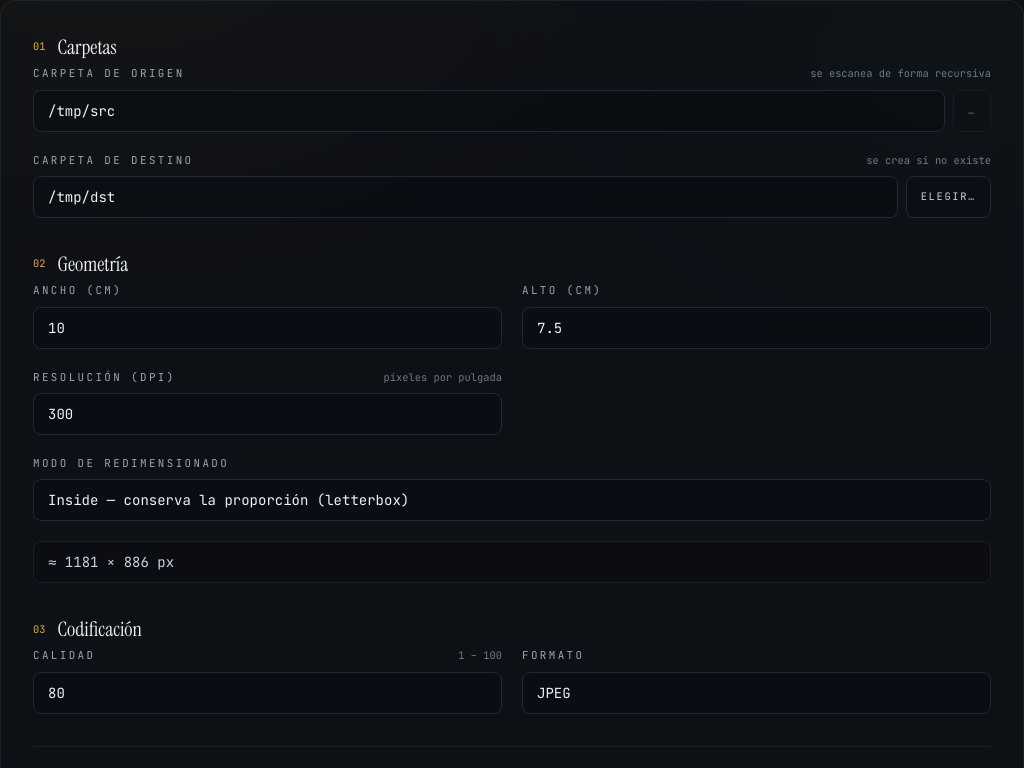
Scenario: ConfigForm › shows a pending state on the picking field and keeps the inputs editable
The width and height of the screenshot is (1024, 768).
Expected: the button named "elegir ruta de origen" is disabled, [953,90,991,132]
Expected: the button named "elegir ruta de origen" reads "…", [953,90,991,132]
In the field labelled "Carpeta de origen": point(489, 111) [33,90,945,132], type "/typed"
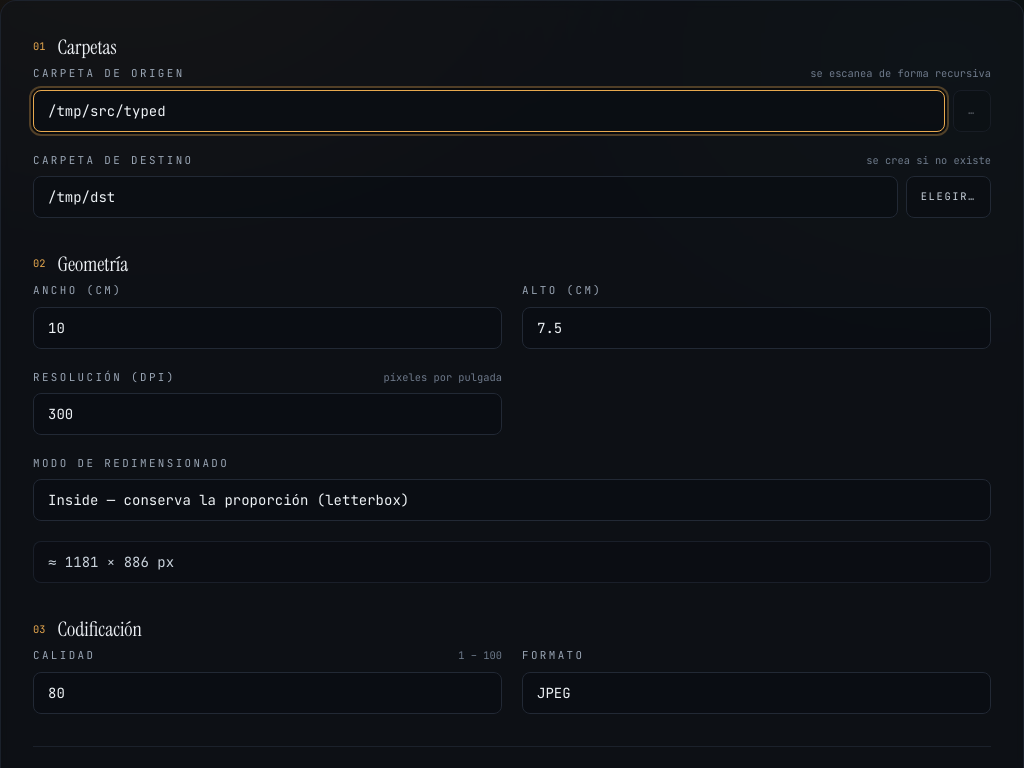
Now the field labelled "Carpeta de origen" holds "/tmp/src/typed", box [33,90,945,132]
